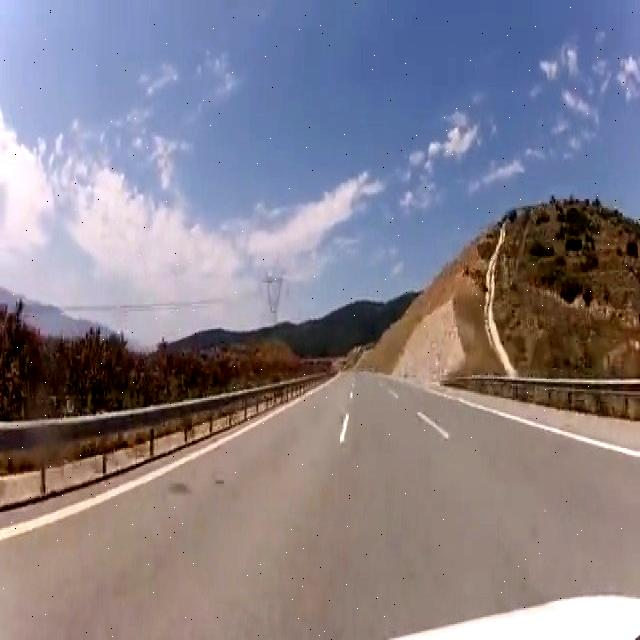lane: (0, 409, 285, 541), (430, 390, 640, 457), (418, 412, 449, 439), (342, 413, 349, 443)
road: (0, 372, 639, 636)
